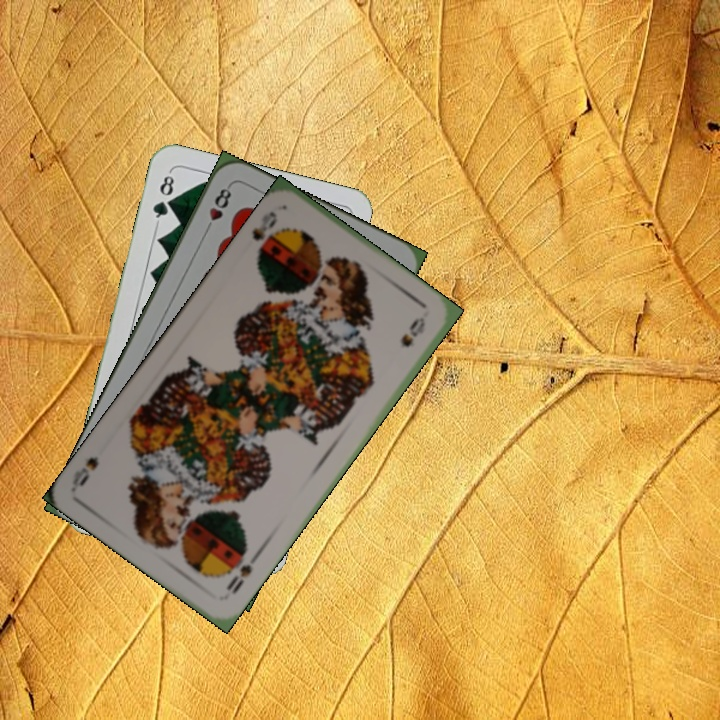G8: (149, 168, 177, 226)
H8: (200, 181, 234, 237)
SO: (222, 546, 261, 598), (247, 207, 280, 262)
